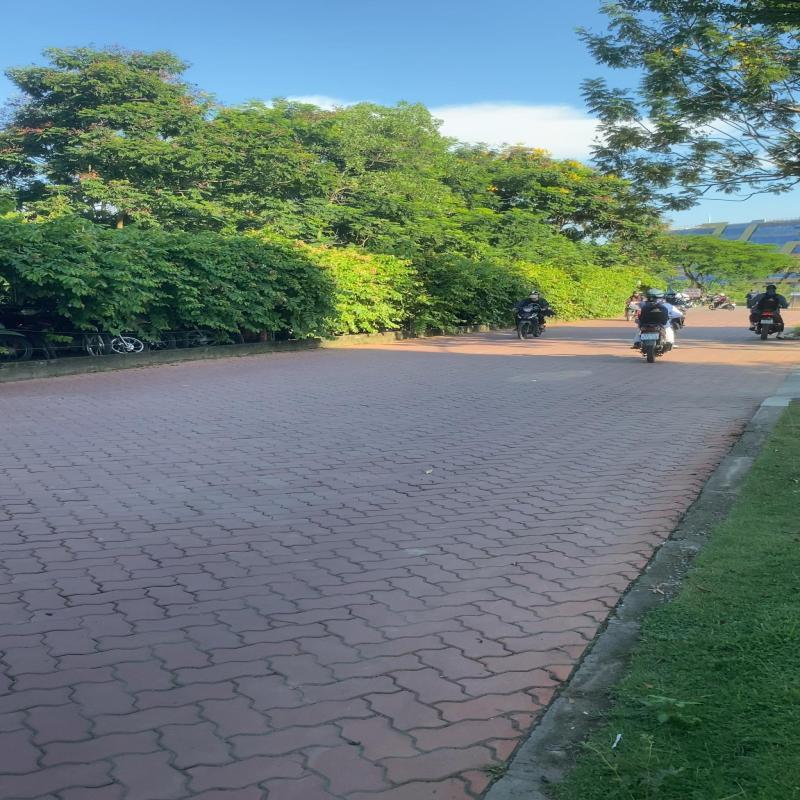helmet: (646, 289, 664, 299)
licenseplate: (640, 334, 660, 340)
motorcyclist: (631, 289, 683, 363)
